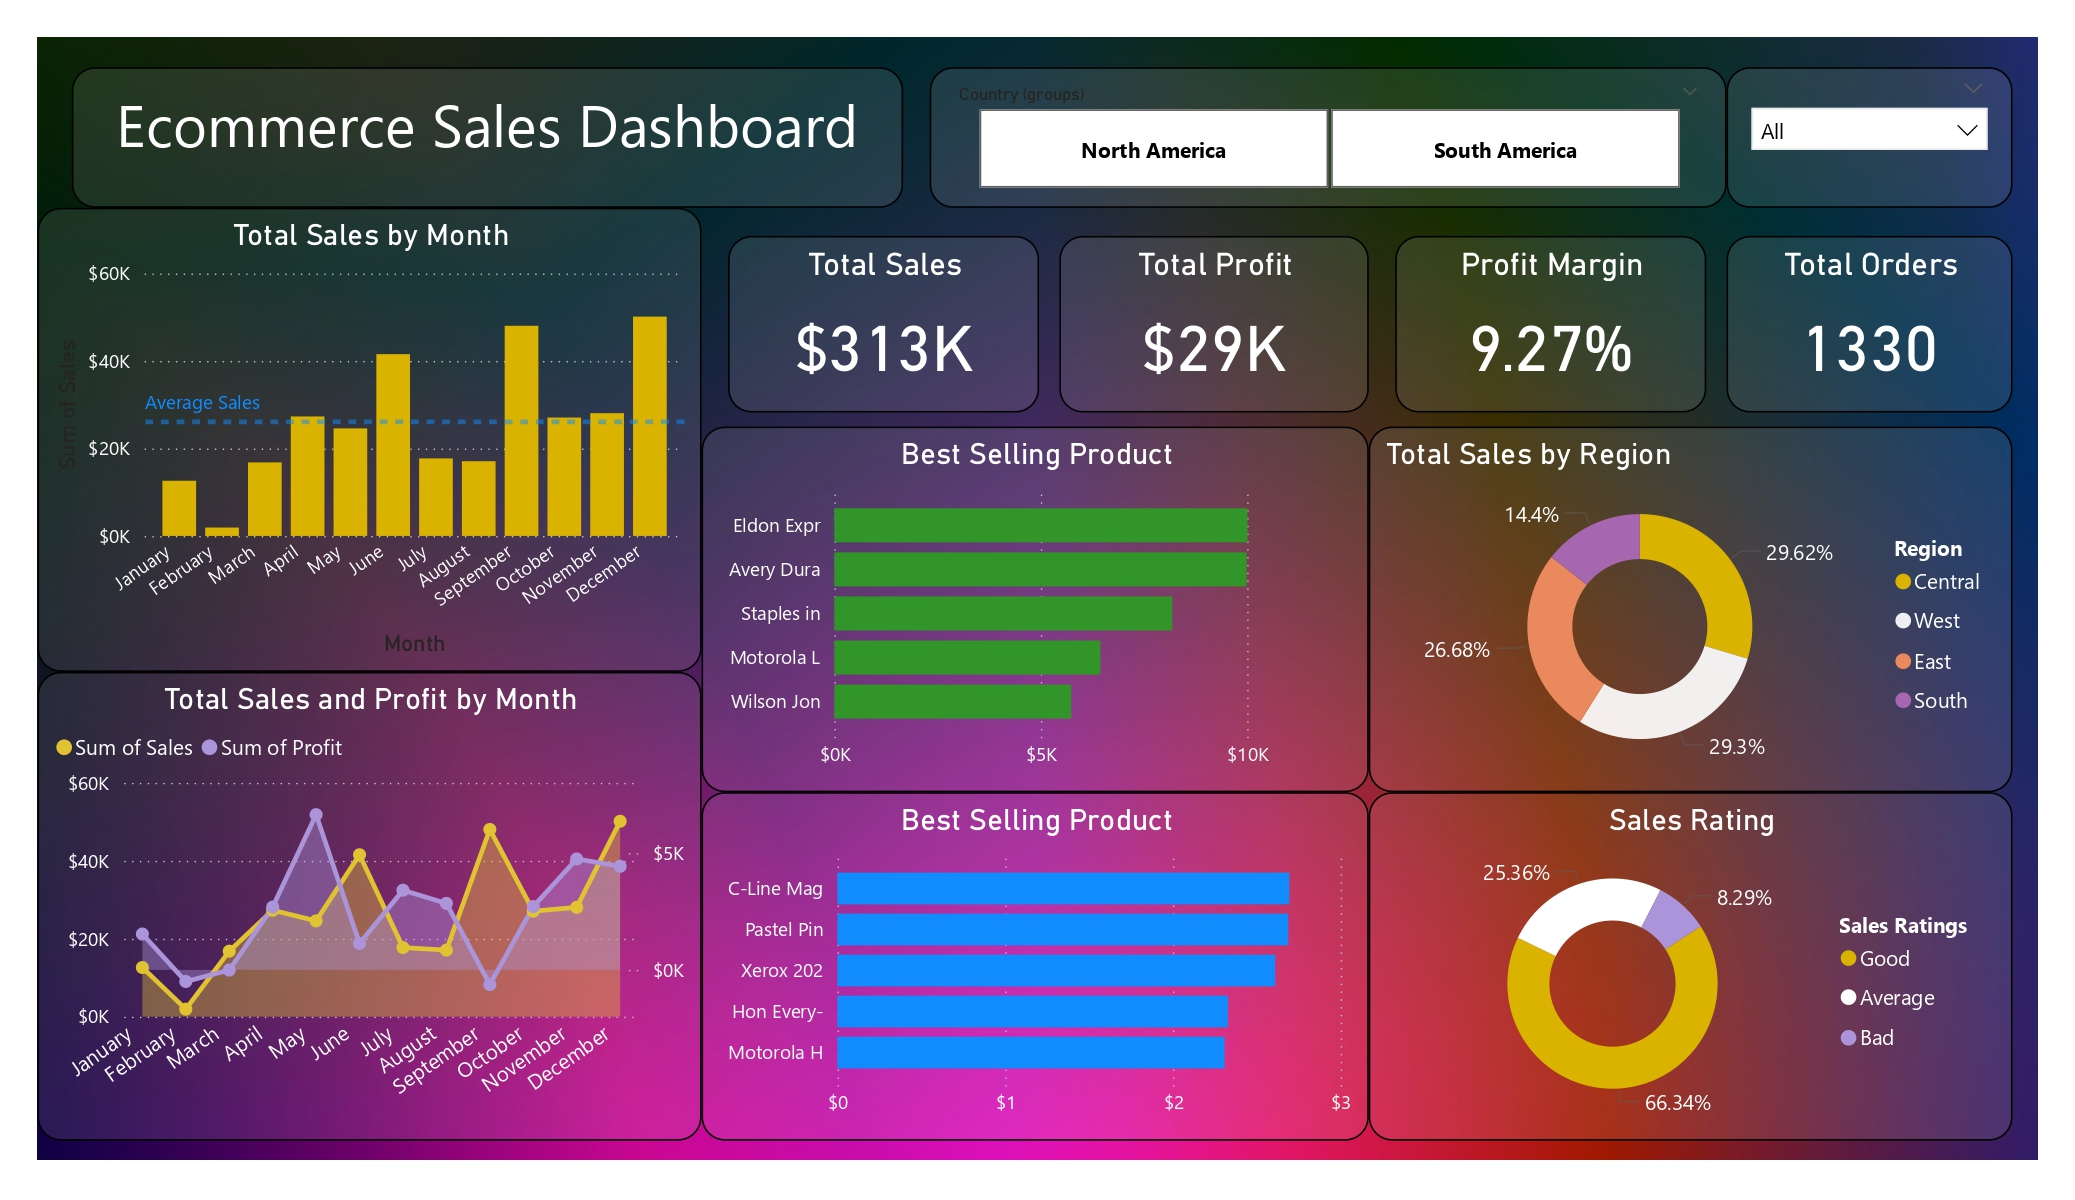

This screenshot's page, from the dashboard's own definition file:
{"tool":"powerbi","page":{"name":"Ecommerce Sales Dashborad","canvas":[1280,720],"ordinal":0},"visuals":[{"type":"textbox","box":[22.5,18.7,532,89.9],"z":0},{"type":"card","title":"Total Sales","fields":{"Values":["Sum(EcommerceData.Sales)"]},"box":[442.1,127.4,198.6,112.4],"z":1000},{"type":"card","title":"Total Profit","fields":{"Values":["Sum(EcommerceData.Profit)"]},"box":[653.7,127.4,198.6,112.4],"z":2000},{"type":"card","title":"Total Orders","fields":{"Values":["Count(EcommerceData.Order ID)"]},"box":[1080.8,127.4,183.6,112.4],"z":3000},{"type":"card","title":"Profit Margin","fields":{"Values":["EcommerceData.Profit Margin"]},"box":[869.2,127.4,198.6,112.4],"z":4000},{"type":"donutChart","title":"Total Sales by Region","fields":{"Category":["EcommerceData.Region"],"Y":["Sum(EcommerceData.Sales)"]},"box":[852.3,249.1,412.1,234.1],"z":5000},{"type":"donutChart","title":"Sales Rating","fields":{"Y":["Sum(EcommerceData.Sales)"],"Category":["EcommerceData.Sales Ratings"]},"box":[852.3,483.3,412.1,222.9],"z":6000},{"type":"clusteredColumnChart","title":"Total Sales by Month","fields":{"Category":["EcommerceData.Purchase Date.Variation.Date Hierarchy.Month"],"Y":["Sum(EcommerceData.Sales)"]},"box":[0,108.6,425.2,282.9],"z":7000},{"type":"lineChart","title":"Total Sales and Profit by Month","fields":{"Category":["EcommerceData.Purchase Date.Variation.Date Hierarchy.Month"],"Y":["Sum(EcommerceData.Sales)"],"Y2":["Sum(EcommerceData.Profit)"]},"box":[0,404.6,425.2,301.6],"z":8000},{"type":"barChart","title":"Best Selling Product","fields":{"Y":["Sum(EcommerceData.Sales)"],"Category":["EcommerceData.Product Name"]},"box":[425.2,249.1,427.1,234.1],"z":9000},{"type":"barChart","title":"Best Selling Product","fields":{"Y":["Sum(EcommerceData.Sales)"],"Category":["EcommerceData.Product Name"]},"box":[425.2,483.3,427.1,222.9],"z":10000},{"type":"slicer","fields":{"Values":["EcommerceData.Country (groups)"]},"box":[571.3,18.7,509.5,89.9],"z":11000},{"type":"slicer","fields":{"Values":["EcommerceData.Purchase Date.Variation.Date Hierarchy.Year"]},"box":[1080.8,18.7,183.6,89.9],"z":12000}]}

Visuals, with their boxes on the page's 1280x720 design canvas (x1, y1, x2, y2). These are canvas units, not pixel positions in the 2075x1200 screenshot, which may show the page scaled, cropped or inside an application window:
textbox: pyautogui.locateOnScreen(22, 19, 554, 109)
"Total Sales" card: pyautogui.locateOnScreen(442, 127, 641, 240)
"Total Profit" card: pyautogui.locateOnScreen(654, 127, 852, 240)
"Total Orders" card: pyautogui.locateOnScreen(1081, 127, 1264, 240)
"Profit Margin" card: pyautogui.locateOnScreen(869, 127, 1068, 240)
"Total Sales by Region" donutChart: pyautogui.locateOnScreen(852, 249, 1264, 483)
"Sales Rating" donutChart: pyautogui.locateOnScreen(852, 483, 1264, 706)
"Total Sales by Month" clusteredColumnChart: pyautogui.locateOnScreen(0, 109, 425, 392)
"Total Sales and Profit by Month" lineChart: pyautogui.locateOnScreen(0, 405, 425, 706)
"Best Selling Product" barChart: pyautogui.locateOnScreen(425, 249, 852, 483)
"Best Selling Product" barChart: pyautogui.locateOnScreen(425, 483, 852, 706)
slicer - EcommerceData.Country (groups): pyautogui.locateOnScreen(571, 19, 1081, 109)
slicer - EcommerceData.Purchase Date.Variation.Date Hierarchy.Year: pyautogui.locateOnScreen(1081, 19, 1264, 109)
